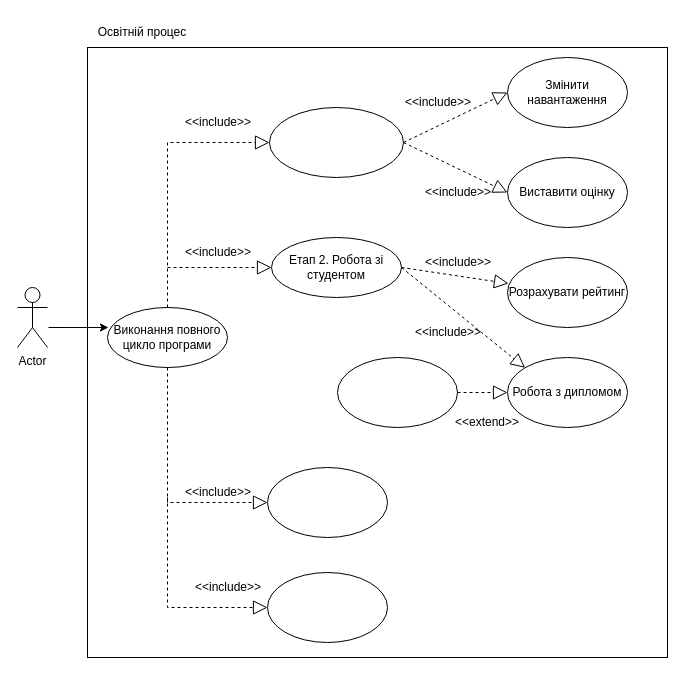
This 685x675 diagram has some shape labels left out. Here are the shapes that lost their labels. From the top down, the box of each, then its label:
(268, 106, 404, 178): Етап 1. Робота з викладачем
(336, 356, 458, 428): Взяти тему з файлу
(266, 466, 388, 538): Етап 3. Пошук у науковій статті
(266, 572, 388, 642): Етап 4. Збереження звіту
